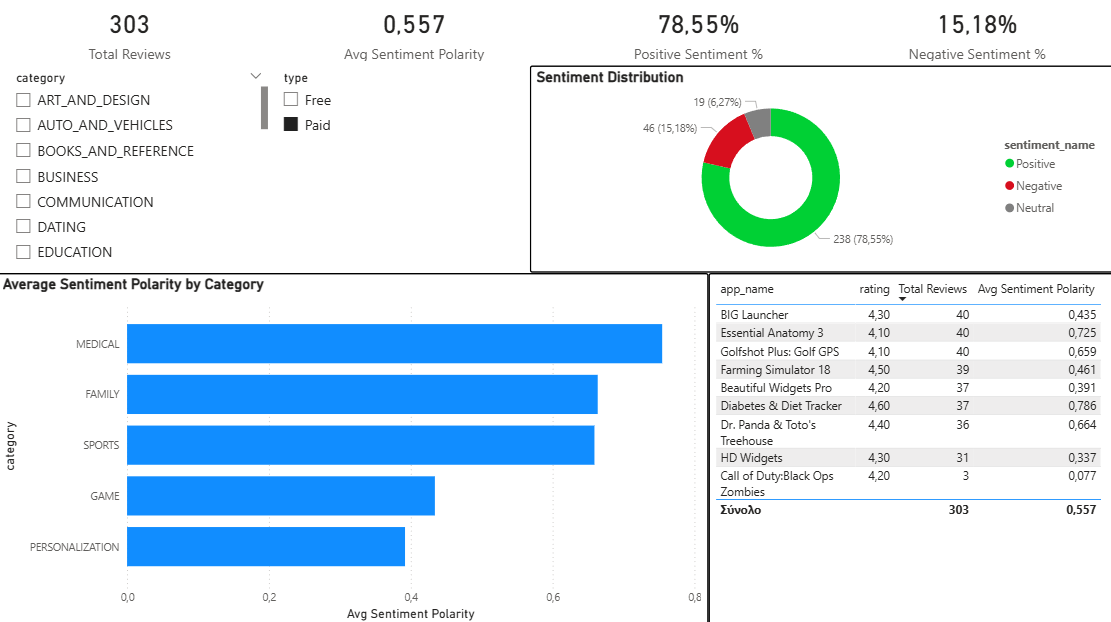

This screenshot's page, from the dashboard's own definition file:
{"tool":"powerbi","page":{"name":"Executive Overview","canvas":[1280,720],"ordinal":0},"visuals":[{"type":"card","fields":{"Values":["_Measures.Total Reviews"]},"box":[0,0,305.7,77.1],"z":0},{"type":"card","fields":{"Values":["_Measures.Avg Sentiment Polarity"]},"box":[315.7,0,324.3,77.1],"z":1000},{"type":"card","fields":{"Values":["_Measures.Positive Sentiment %"]},"box":[642.9,0,320,77.1],"z":2000},{"type":"card","fields":{"Values":["_Measures.Negative Sentiment %"]},"box":[962.9,0,317.1,77.1],"z":3000},{"type":"slicer","fields":{"Values":["playstore_dw dim_apps.category"]},"box":[10,77.1,305.7,237.1],"z":4000},{"type":"donutChart","title":"Sentiment Distribution","fields":{"Category":["playstore_dw dim_sentiment_types.sentiment_name"],"Y":["_Measures.Total Reviews"]},"box":[610,77.1,670,237.1],"z":5000},{"type":"barChart","title":"Average Sentiment Polarity by Category","fields":{"Category":["playstore_dw dim_apps.category"],"Y":["_Measures.Avg Sentiment Polarity"]},"box":[0,314.3,814.3,405.7],"z":6000},{"type":"tableEx","fields":{"Values":["playstore_dw dim_apps.app_name","playstore_dw dim_apps.rating","_Measures.Total Reviews","_Measures.Avg Sentiment Polarity"]},"box":[814.3,314.3,465.7,405.7],"z":7000},{"type":"slicer","fields":{"Values":["playstore_dw dim_apps.type"]},"box":[315.7,77.1,294.3,237.1],"z":8000}]}

Visuals, with their boxes in screenshot pixels (x1, y1, x2, y2), scaled from the page's 1280x720 canvas onto the 1111x622 screenshot:
card - _Measures.Total Reviews: [0, 0, 265, 67]
card - _Measures.Avg Sentiment Polarity: [274, 0, 556, 67]
card - _Measures.Positive Sentiment %: [558, 0, 836, 67]
card - _Measures.Negative Sentiment %: [836, 0, 1110, 67]
slicer - playstore_dw dim_apps.category: [9, 67, 274, 271]
"Sentiment Distribution" donutChart: [529, 67, 1110, 271]
"Average Sentiment Polarity by Category" barChart: [0, 272, 707, 621]
tableEx - playstore_dw dim_apps.app_name x playstore_dw dim_apps.rating: [707, 272, 1110, 621]
slicer - playstore_dw dim_apps.type: [274, 67, 529, 271]
